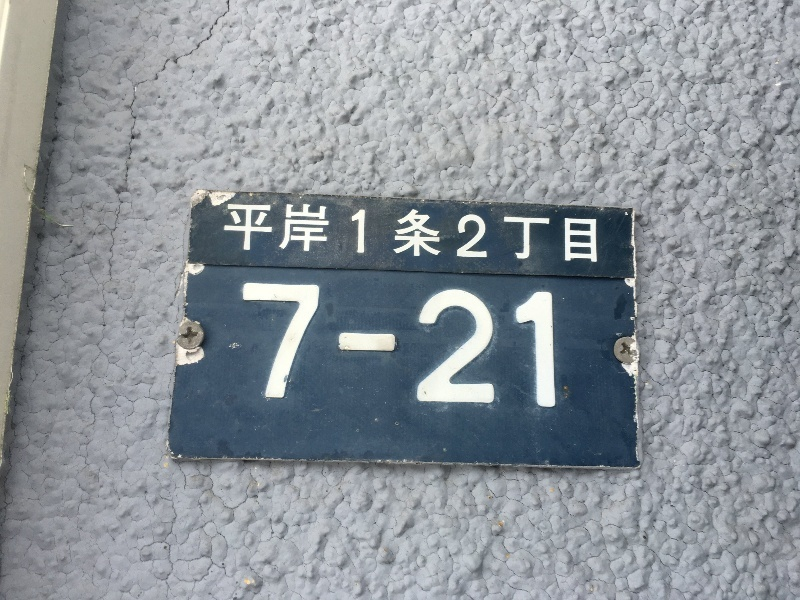text: (257, 281, 272, 409), (273, 281, 288, 409), (289, 281, 304, 409), (305, 281, 320, 409), (321, 281, 336, 409), (337, 281, 352, 409), (353, 281, 368, 409), (369, 281, 384, 409), (385, 281, 400, 409), (401, 281, 416, 409), (417, 281, 432, 409), (433, 281, 448, 409), (449, 281, 464, 409), (465, 281, 480, 409), (481, 281, 496, 409), (497, 281, 512, 409), (513, 281, 528, 409), (529, 281, 544, 409), (244, 281, 256, 409), (545, 281, 556, 409), (225, 202, 240, 264), (241, 202, 256, 264), (257, 202, 272, 264), (273, 202, 288, 264), (289, 202, 304, 264), (305, 202, 320, 264), (321, 202, 336, 264), (337, 202, 352, 264), (353, 202, 368, 264), (369, 202, 384, 264), (385, 202, 400, 264), (401, 202, 416, 264), (417, 202, 432, 264), (433, 202, 448, 264), (449, 202, 464, 264), (465, 202, 480, 264), (481, 202, 496, 264), (497, 202, 512, 264), (513, 202, 528, 264), (529, 202, 544, 264), (545, 202, 560, 264), (561, 202, 576, 264), (577, 202, 592, 264), (593, 202, 598, 264)
